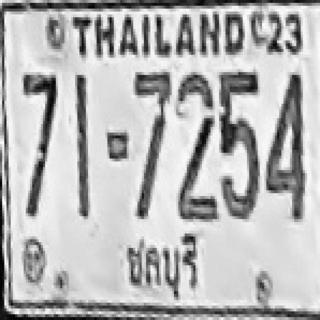N01: (74, 75, 89, 208), (74, 74, 89, 203)
N02: (175, 91, 216, 218), (175, 71, 214, 203), (175, 71, 214, 192)
N04: (264, 68, 305, 218)
N05: (218, 69, 259, 216)
N07: (133, 69, 170, 213), (22, 72, 56, 213), (133, 69, 170, 193), (133, 69, 170, 170), (22, 71, 56, 163)
P13: (122, 227, 211, 303)
